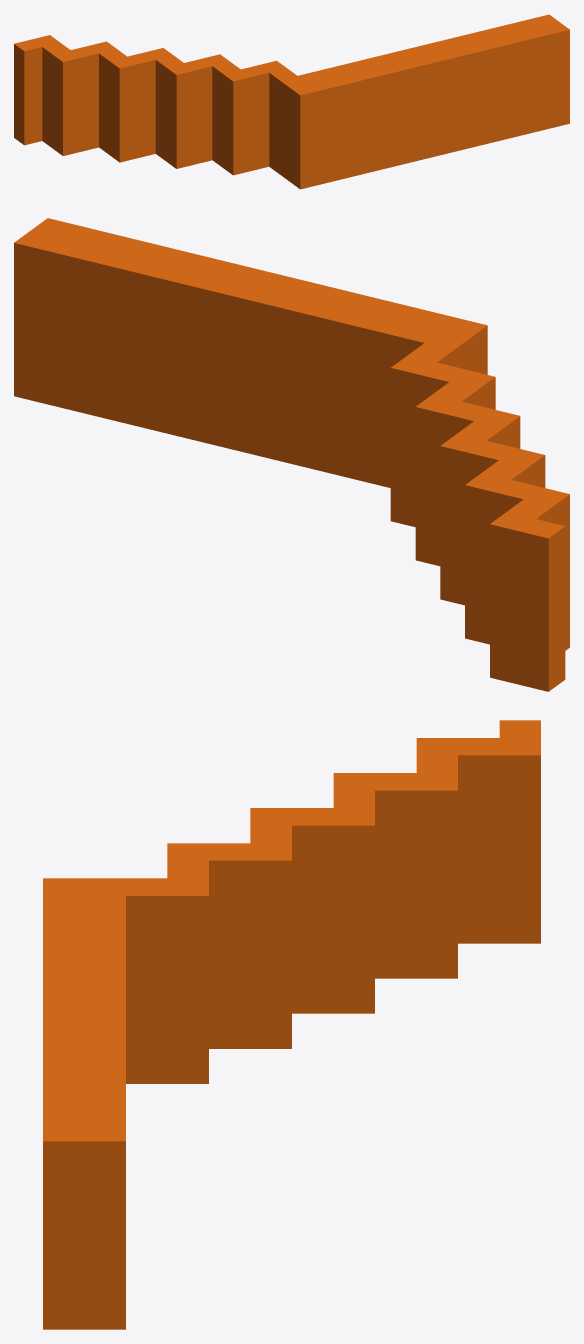
File: stage2-9.fbx
3 renders of one model, top to bottom at view 1: azimuth 30°, elevation 25°; view 2: azimuth 150°, elevation 25°; view 3: azimuth 270°, elevation 25°, orthographic. The views are drawn at different scales.
Visible parts, largest first — view 1: Cube.053; view 2: Cube.053; view 3: Cube.053.
Boxes of the visible parts, left/top/right/bottom form: Cube.053: left=14, top=14, right=569, bottom=189; Cube.053: left=14, top=218, right=569, bottom=691; Cube.053: left=43, top=720, right=540, bottom=1329.
Bounding box in the file's own units: 240 × 50 × 120.
